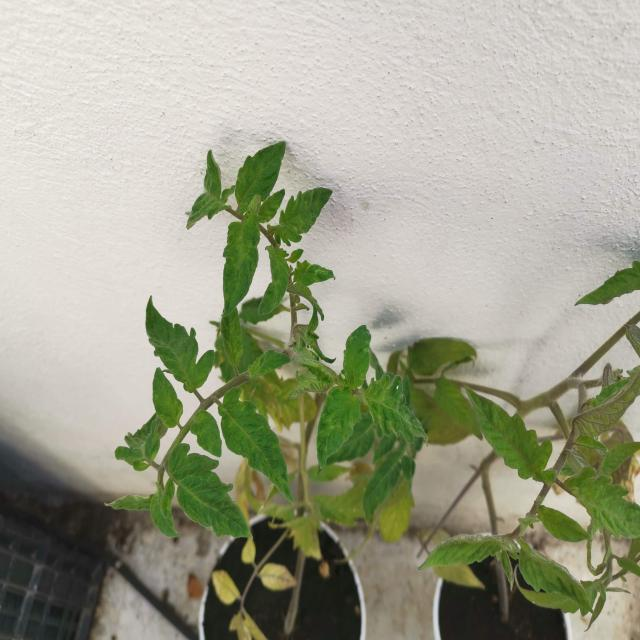T_L_R: (464, 385, 558, 487), (219, 387, 296, 506), (160, 444, 255, 540), (146, 296, 216, 394), (520, 541, 592, 616), (362, 376, 430, 449), (317, 375, 363, 471), (221, 215, 263, 318), (574, 373, 640, 438), (106, 483, 181, 539), (576, 476, 640, 539), (186, 151, 236, 230), (268, 188, 333, 248), (236, 142, 287, 216), (116, 412, 169, 472), (258, 245, 291, 317), (288, 356, 337, 401), (342, 326, 372, 392), (153, 368, 184, 429), (191, 410, 223, 458), (221, 308, 244, 368), (249, 350, 291, 380), (294, 261, 337, 288), (258, 189, 286, 223)
T_S_R: (555, 426, 579, 473)
